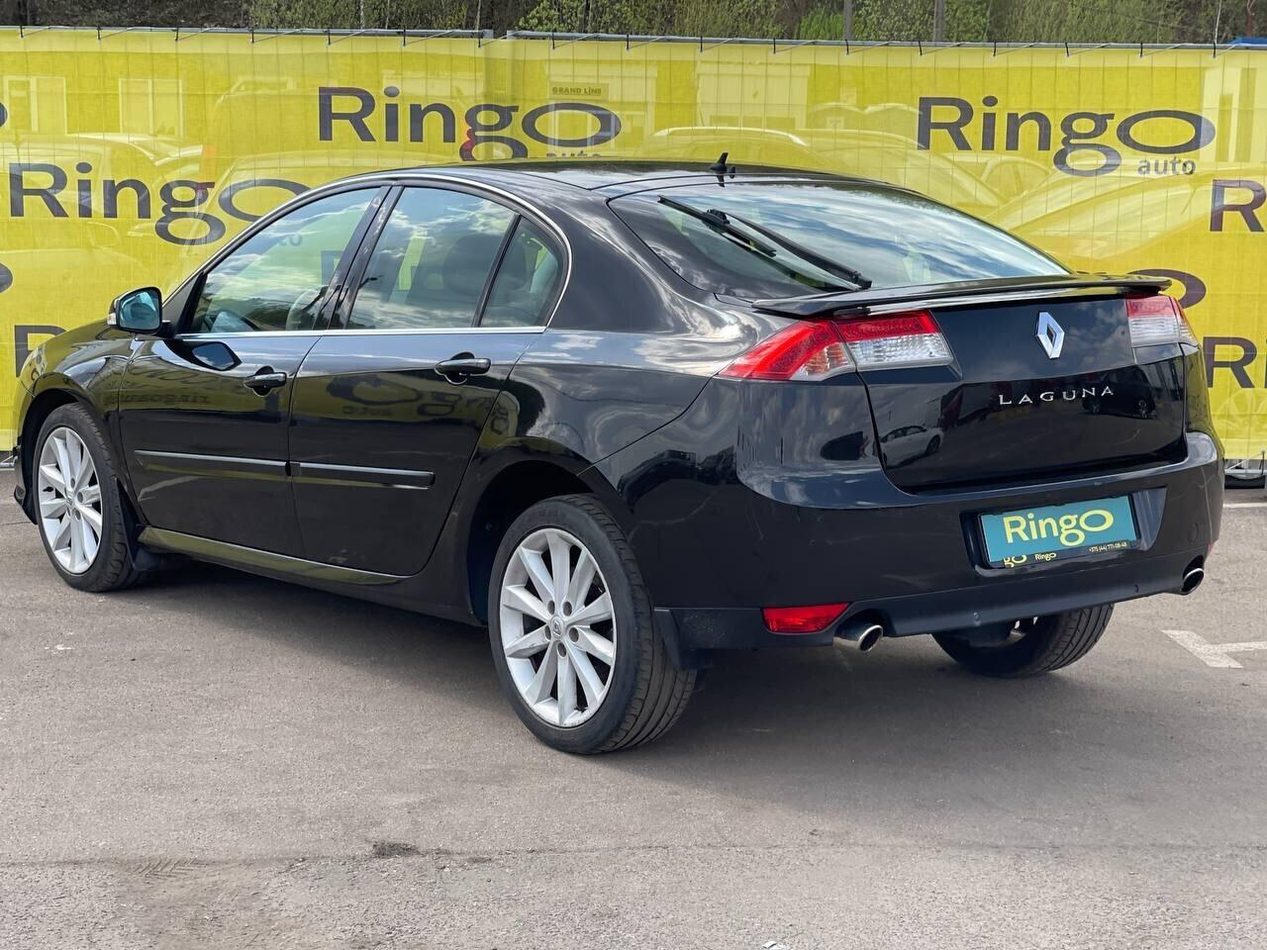Laguna_2007-2011: (13, 153, 1222, 752)
